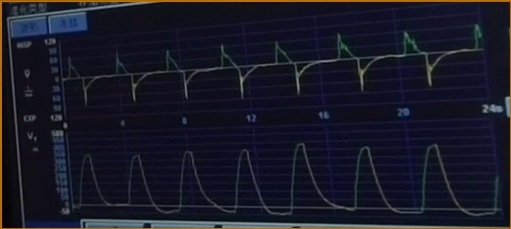Accumulation Flow: (63, 25, 484, 106)
Volume: (73, 139, 490, 218)
